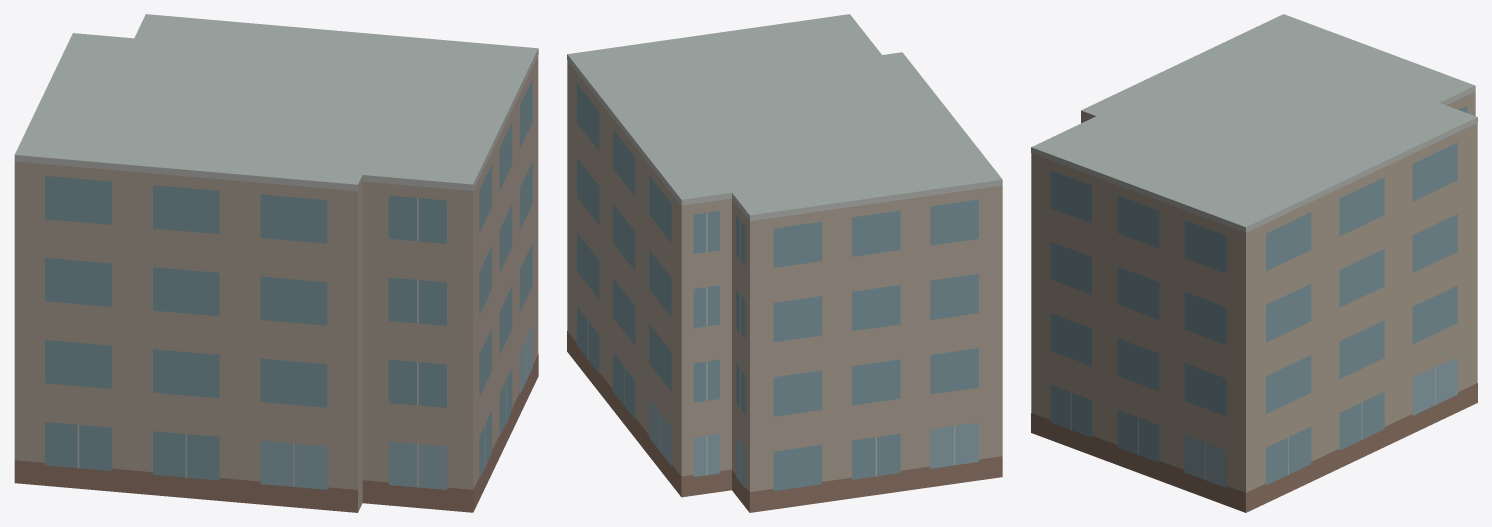
The model's file is survey-upis-32818433.glb.
The picture shows the model from 3 angles, left to right: view 1: azimuth 30°, elevation 25°; view 2: azimuth 150°, elevation 25°; view 3: azimuth 270°, elevation 25°; orthographic projection. The views are drawn at different scales.
Parts seen in each view (by area): view 1: survey-upis-32818433.tmp; view 2: survey-upis-32818433.tmp; view 3: survey-upis-32818433.tmp.
Part boxes in pixels (x1,y1,x2,y2): survey-upis-32818433.tmp: (14, 14, 538, 512); survey-upis-32818433.tmp: (567, 14, 1002, 512); survey-upis-32818433.tmp: (1031, 14, 1477, 512).
Size of the model in its own units: 19.71 by 12.3 by 17.44.
